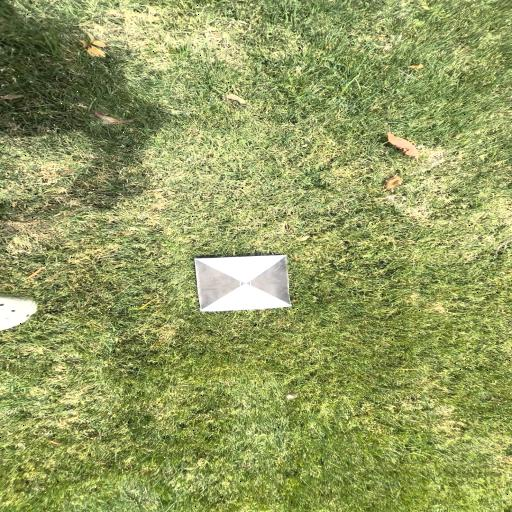target: (194, 255, 292, 310)
